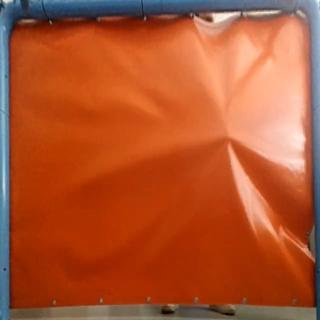Hit-hRxx: (220, 129, 236, 146)
